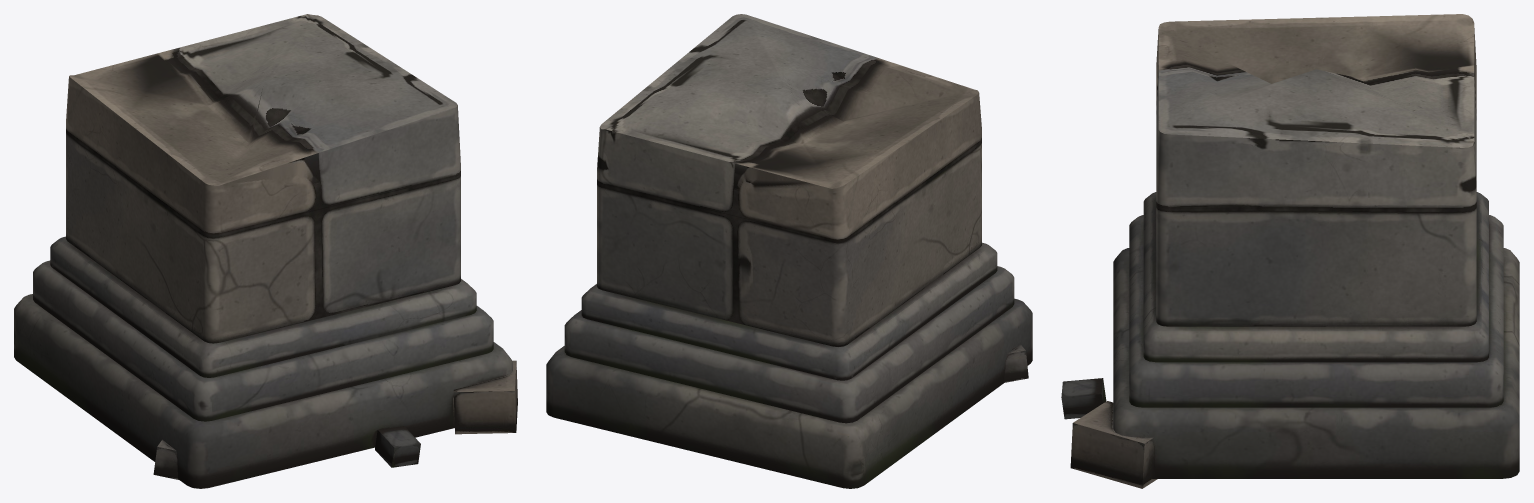
Rendered from pillar_low.glb.
3 views of the same model, side by side, from view 1: azimuth 30°, elevation 25°; view 2: azimuth 150°, elevation 25°; view 3: azimuth 270°, elevation 25° (orthographic). The views are drawn at different scales.
Parts seen in each view (by area): view 1: pillar_low; view 2: pillar_low; view 3: pillar_low.
Boxes of the visible parts, box(x1,y1,x2,y2) form: pillar_low: box(14, 14, 517, 488); pillar_low: box(546, 14, 1032, 488); pillar_low: box(1061, 14, 1519, 488).
Bounding box in the file's own units: 1.52 × 1.27 × 1.58.
Materials: 1 (1 with a texture image).
